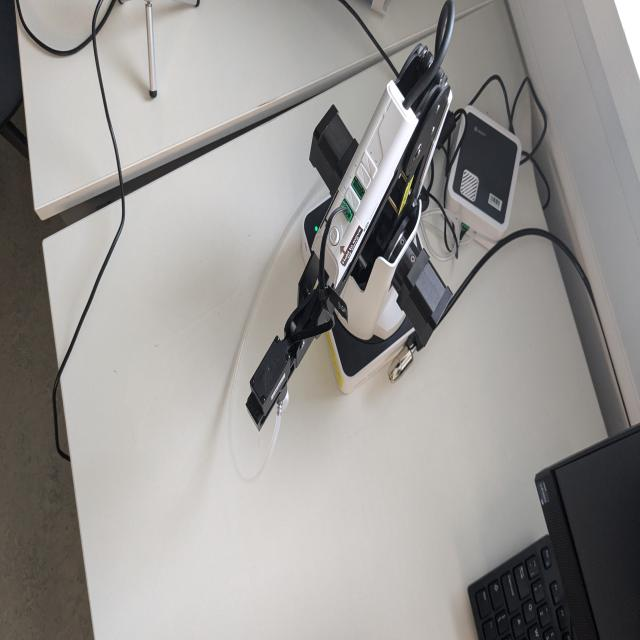Robot-end-effector-HF8z: (244, 329, 296, 433)
